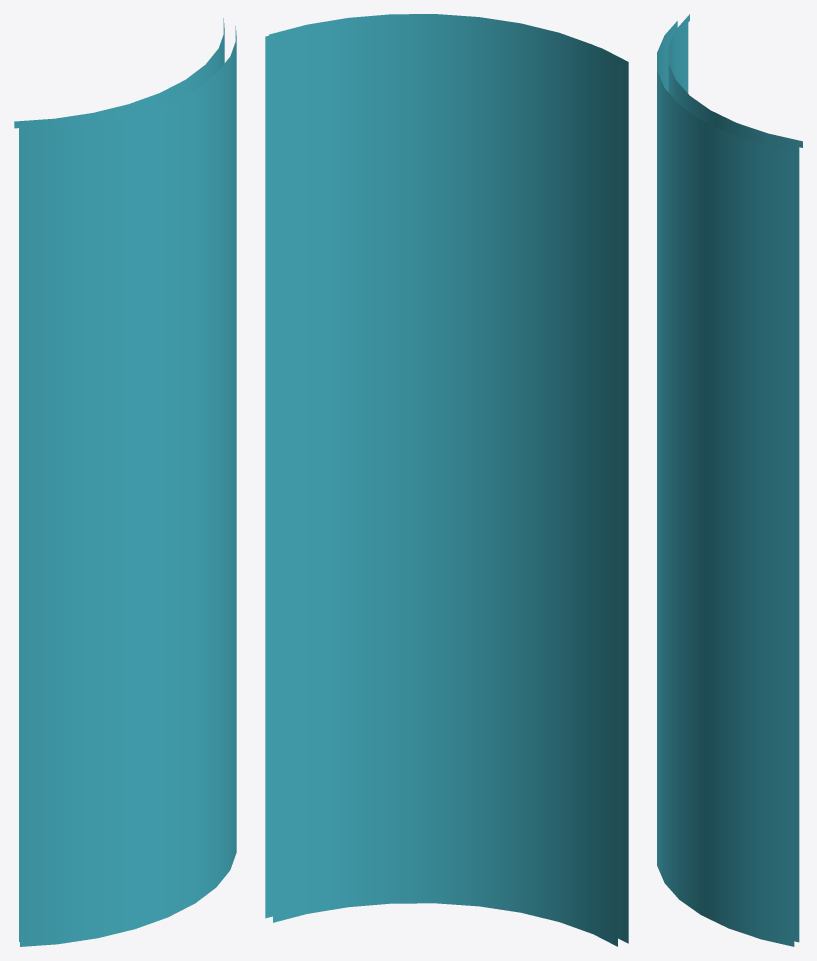
File: showerTubeDoorGlass.fbx
3 views of the same model, side by side, from view 1: azimuth 30°, elevation 25°; view 2: azimuth 150°, elevation 25°; view 3: azimuth 270°, elevation 25° (orthographic). The views are drawn at different scales.
Visible parts, largest first — view 1: showerTubeDoorGlass; view 2: showerTubeDoorGlass; view 3: showerTubeDoorGlass.
Part boxes in pixels (box(x1,y1,x2,y2)): showerTubeDoorGlass: box(14, 18, 236, 946); showerTubeDoorGlass: box(265, 14, 628, 946); showerTubeDoorGlass: box(657, 14, 802, 946).
Size of the model in its own units: 66.25 by 189 by 31.12.
